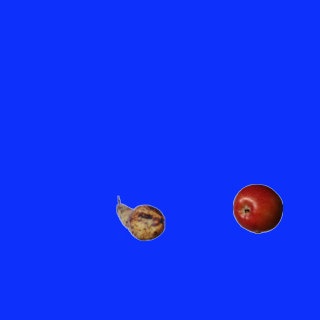Apple Braeburn: (232, 183, 282, 233)
Pear Abate: (115, 193, 165, 243)
